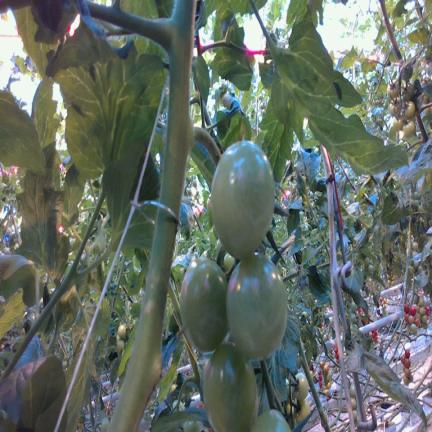6kp_peduncle: (162, 72, 222, 192), (177, 361, 204, 407)
6kp_petiole: (119, 0, 197, 133)
MainStem: (107, 1, 196, 432), (0, 188, 105, 387), (384, 216, 411, 353), (298, 339, 331, 432), (379, 0, 402, 62), (415, 105, 428, 143)
tomato: (226, 254, 298, 359), (211, 141, 274, 258), (203, 343, 258, 431), (180, 258, 228, 350), (294, 372, 308, 401), (296, 398, 310, 422), (387, 81, 399, 98), (389, 98, 400, 116), (403, 121, 415, 137), (404, 101, 415, 118), (393, 118, 403, 131), (117, 338, 125, 353), (118, 324, 126, 338), (410, 304, 417, 316), (414, 314, 421, 326), (404, 367, 411, 378), (410, 323, 417, 334), (350, 383, 355, 397), (408, 314, 414, 324), (404, 303, 410, 313), (403, 376, 410, 384), (351, 398, 356, 409), (421, 314, 427, 323), (419, 306, 425, 315), (412, 241, 418, 250), (368, 264, 374, 273), (405, 358, 410, 368), (286, 402, 290, 414), (353, 410, 357, 422), (400, 355, 405, 364), (409, 266, 414, 275), (364, 257, 369, 266), (405, 350, 410, 358), (419, 298, 424, 306), (409, 374, 413, 382), (405, 314, 409, 322)
